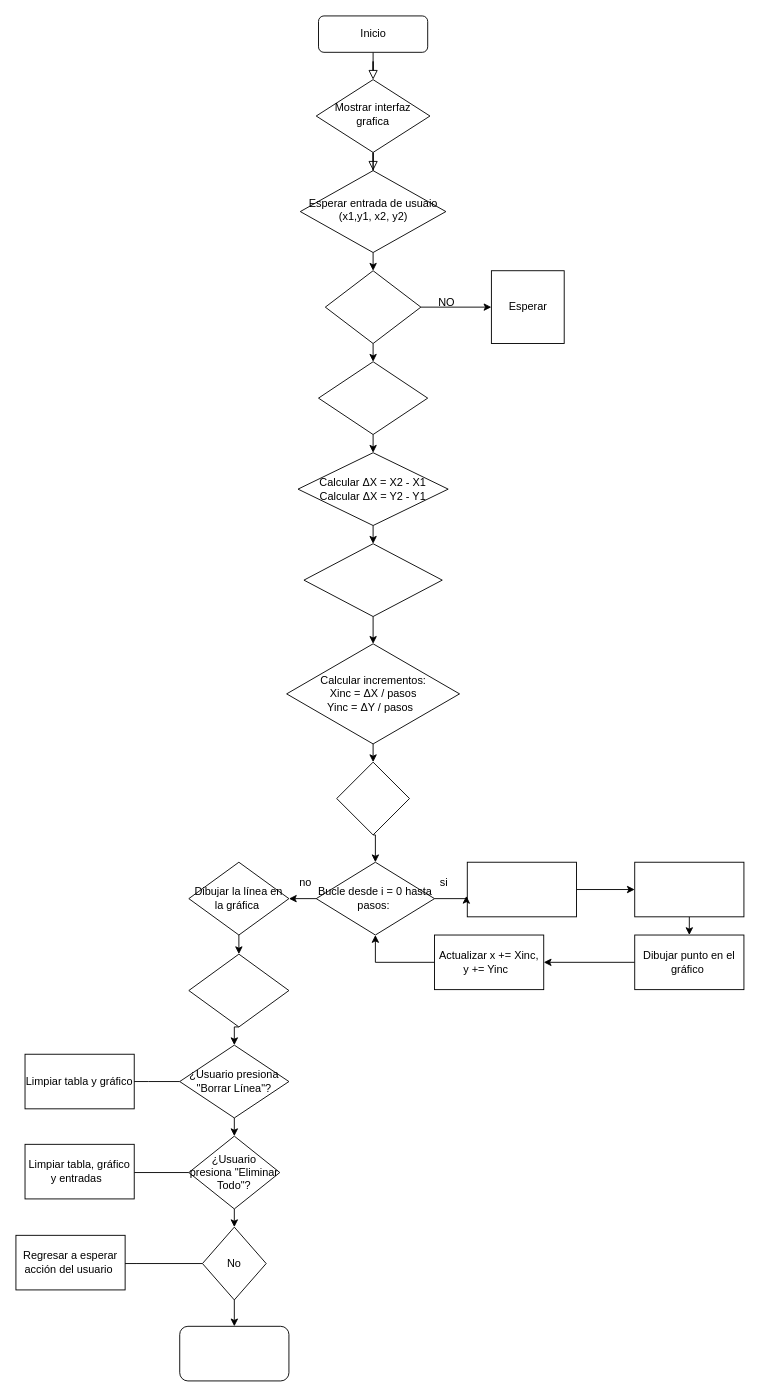
The diagram is 760 pixels wide and 1397 high, and some of its shapes have lost their labels. Each missing label, with the box of its shape:
Almacenar (x, y) en la lista de puntos: (466, 861, 576, 917)
Determinar pasos = max(|ΔX|, |ΔY|): (303, 543, 442, 617)
Esperar nueva acción del usuario: (188, 953, 289, 1027)
Fin: (179, 1325, 289, 1381)
Inicializar x = X1, y = Y1: (336, 761, 410, 835)
Leer valores de x1, y1, x2, y2: (318, 361, 428, 435)
Mostrar (x, y) en la tabla: (634, 861, 744, 917)
presionar generar linea: (324, 270, 421, 344)
